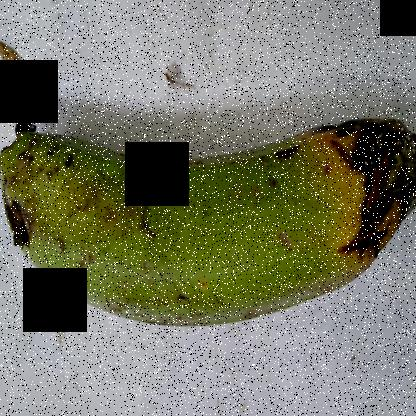rotten: (269, 82, 415, 324)
unripe: (1, 109, 302, 338)
